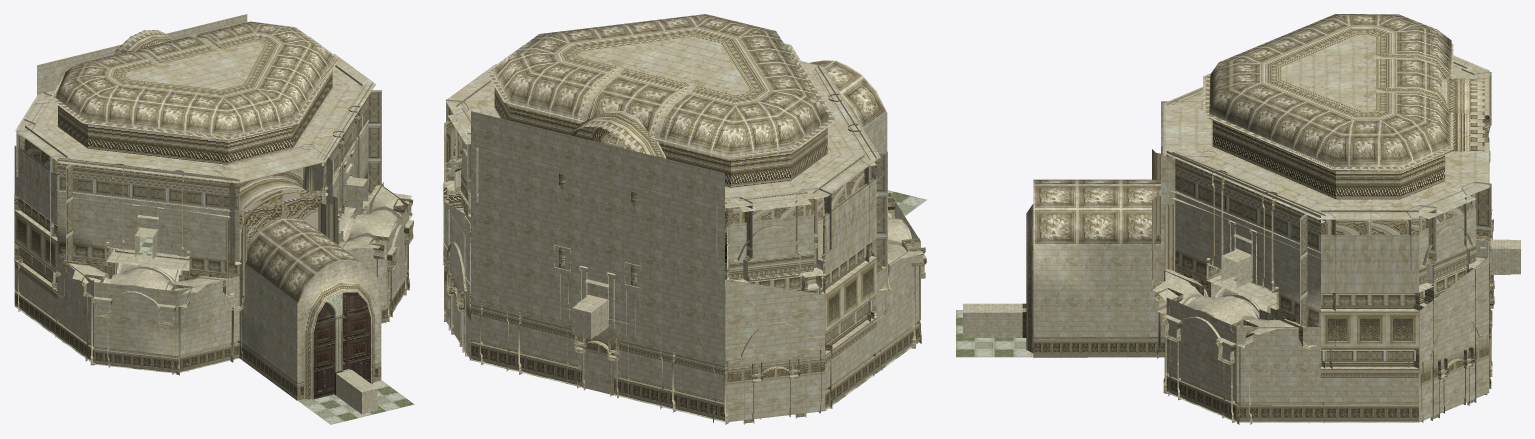
Rendered from estructuraAux3.gltf.
3 views of the same model, side by side, from view 1: azimuth 30°, elevation 25°; view 2: azimuth 150°, elevation 25°; view 3: azimuth 270°, elevation 25° (orthographic). The views are drawn at different scales.
Parts seen in each view (by area): view 1: Shape 6, Shape 11, Shape 4, Shape 2, Shape 0, Shape 13, Shape 10, Shape 14, Shape 8, Shape 12, Shape 9, Shape 3 (+3 smaller); view 2: Shape 6, Shape 11, Shape 4, Shape 2, Shape 10, Shape 0, Shape 7, Shape 15, Shape 5, Shape 9, Shape 1, Shape 8 (+3 smaller); view 3: Shape 6, Shape 11, Shape 4, Shape 2, Shape 0, Shape 10, Shape 5, Shape 9, Shape 14, Shape 8, Shape 15, Shape 3 (+2 smaller).
Boxes of the visible parts, x1,y1,x2,y2 form: Shape 6: (14, 14, 413, 414); Shape 11: (54, 21, 412, 324); Shape 4: (14, 30, 413, 399); Shape 2: (14, 32, 412, 400); Shape 0: (14, 54, 408, 364); Shape 13: (313, 292, 370, 399); Shape 10: (14, 273, 408, 398); Shape 14: (15, 119, 384, 364); Shape 8: (15, 207, 414, 424); Shape 12: (239, 190, 323, 261); Shape 9: (18, 172, 368, 275); Shape 3: (16, 151, 413, 312); Shape 6: (444, 36, 926, 421); Shape 11: (446, 14, 891, 376); Shape 4: (443, 36, 925, 424); Shape 2: (446, 27, 920, 420); Shape 10: (471, 323, 920, 420); Shape 0: (443, 99, 887, 424); Shape 7: (444, 265, 825, 385); Shape 15: (444, 111, 864, 357); Shape 5: (825, 257, 876, 333); Shape 9: (447, 132, 876, 383); Shape 1: (443, 160, 924, 347); Shape 8: (448, 190, 927, 422); Shape 6: (963, 34, 1520, 422); Shape 11: (1033, 14, 1494, 373); Shape 4: (1026, 43, 1493, 424); Shape 2: (1033, 26, 1490, 421); Shape 0: (1170, 61, 1491, 420); Shape 10: (1033, 340, 1418, 420); Shape 5: (1321, 311, 1418, 348); Shape 9: (1175, 250, 1493, 379); Shape 14: (1152, 135, 1492, 412); Shape 8: (956, 264, 1489, 422); Shape 15: (1198, 191, 1485, 358); Shape 3: (1152, 118, 1494, 377).
Size of the model in its own units: 198 by 127 by 246.
